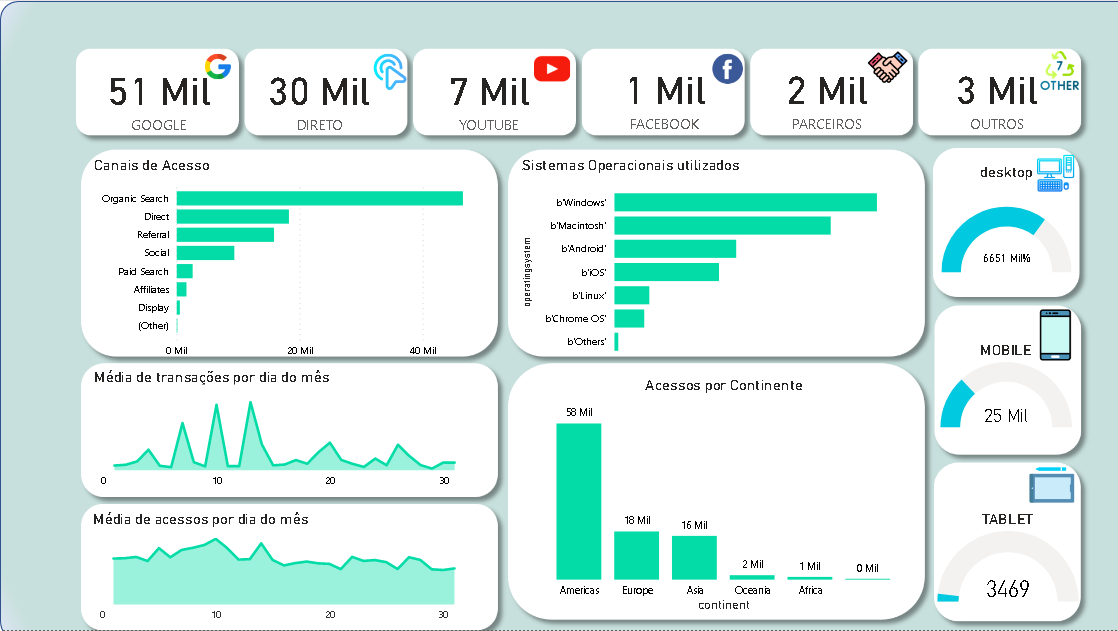

The dashboard page shown, as its layout file describes it:
{"tool":"powerbi","page":{"name":"Página 1","canvas":[1280,720],"ordinal":0},"visuals":[{"type":"clusteredBarChart","title":"Canais de Acesso","fields":{"Category":["dataset.channelgrouping"],"Y":["CountNonNull(dataset.channelgrouping)"]},"box":[102.9,177.3,472.4,239.1],"z":0},{"type":"stackedAreaChart","title":"Média de acessos por dia do mês","fields":{"Category":["dataset.date.Variation.Hierarquia de datas.Dia"],"Y":["Avg(dataset.timeonsite_st)"]},"box":[101.8,582.2,485,137.3],"z":1},{"type":"clusteredColumnChart","title":"Acessos por Continente","fields":{"Category":["dataset.continent"],"Y":["CountNonNull(dataset.continent)"]},"box":[605.1,429,446.1,274.5],"z":2},{"type":"clusteredBarChart","title":"Sistemas Operacionais utilizados","fields":{"Category":["dataset.operatingsystem"],"Y":["CountNonNull(dataset.operatingsystem)"]},"box":[592.5,177.3,441.5,239.1],"z":3},{"type":"stackedAreaChart","title":"Média de transações por dia do mês","fields":{"Category":["dataset.date.Variation.Hierarquia de datas.Dia"],"Y":["Sum(dataset.transactionrevenue_st)"]},"box":[102.9,419.8,483.9,146.4],"z":5},{"type":"gauge","title":"desktop","fields":{"Y":["Medidas.deskt"],"MaxValue":["Medidas.QtdACESS"]},"box":[1071.8,185.3,159,155.6],"z":8},{"type":"gauge","title":"MOBILE","fields":{"Y":["Medidas.dMOBILE"],"MaxValue":["Medidas.QtdACESS"]},"box":[1021.5,388.9,258.5,104.1],"z":9},{"type":"gauge","title":"TABLET","fields":{"Y":["Medidas.dtABLET"],"MaxValue":["Medidas.QtdACESS"]},"box":[1034.1,582.2,237.9,109.8],"z":10},{"type":"card","fields":{"Values":["Medidas.GOOGLE"]},"box":[75.5,57.2,211.6,102.9],"z":11},{"type":"card","fields":{"Values":["Medidas.DIRETO"]},"box":[259.7,57.2,211.6,102.9],"z":12},{"type":"card","fields":{"Values":["Medidas.YOUTUBE"]},"box":[453,57.2,211.6,102.9],"z":13},{"type":"card","fields":{"Values":["Medidas.FACEBOOK"]},"box":[654.3,56.1,211.6,102.9],"z":14},{"type":"card","fields":{"Values":["Medidas.PARCEIROS"]},"box":[839.6,56.1,211.6,102.9],"z":15},{"type":"card","fields":{"Values":["Medidas.OUTROS"]},"box":[1034.1,56.1,211.6,102.9],"z":16}]}

Visuals, with their boxes in screenshot pixels (x1, y1, x2, y2), scaled from the page's 1280x720 canvas onto the 1118x631 screenshot:
"Canais de Acesso" clusteredBarChart: Rect(90, 155, 502, 365)
"Média de acessos por dia do mês" stackedAreaChart: Rect(89, 510, 513, 630)
"Acessos por Continente" clusteredColumnChart: Rect(529, 376, 918, 617)
"Sistemas Operacionais utilizados" clusteredBarChart: Rect(518, 155, 903, 365)
"Média de transações por dia do mês" stackedAreaChart: Rect(90, 368, 513, 496)
"desktop" gauge: Rect(936, 162, 1075, 299)
"MOBILE" gauge: Rect(892, 341, 1117, 432)
"TABLET" gauge: Rect(903, 510, 1111, 606)
card - Medidas.GOOGLE: Rect(66, 50, 251, 140)
card - Medidas.DIRETO: Rect(227, 50, 412, 140)
card - Medidas.YOUTUBE: Rect(396, 50, 580, 140)
card - Medidas.FACEBOOK: Rect(571, 49, 756, 139)
card - Medidas.PARCEIROS: Rect(733, 49, 918, 139)
card - Medidas.OUTROS: Rect(903, 49, 1088, 139)
